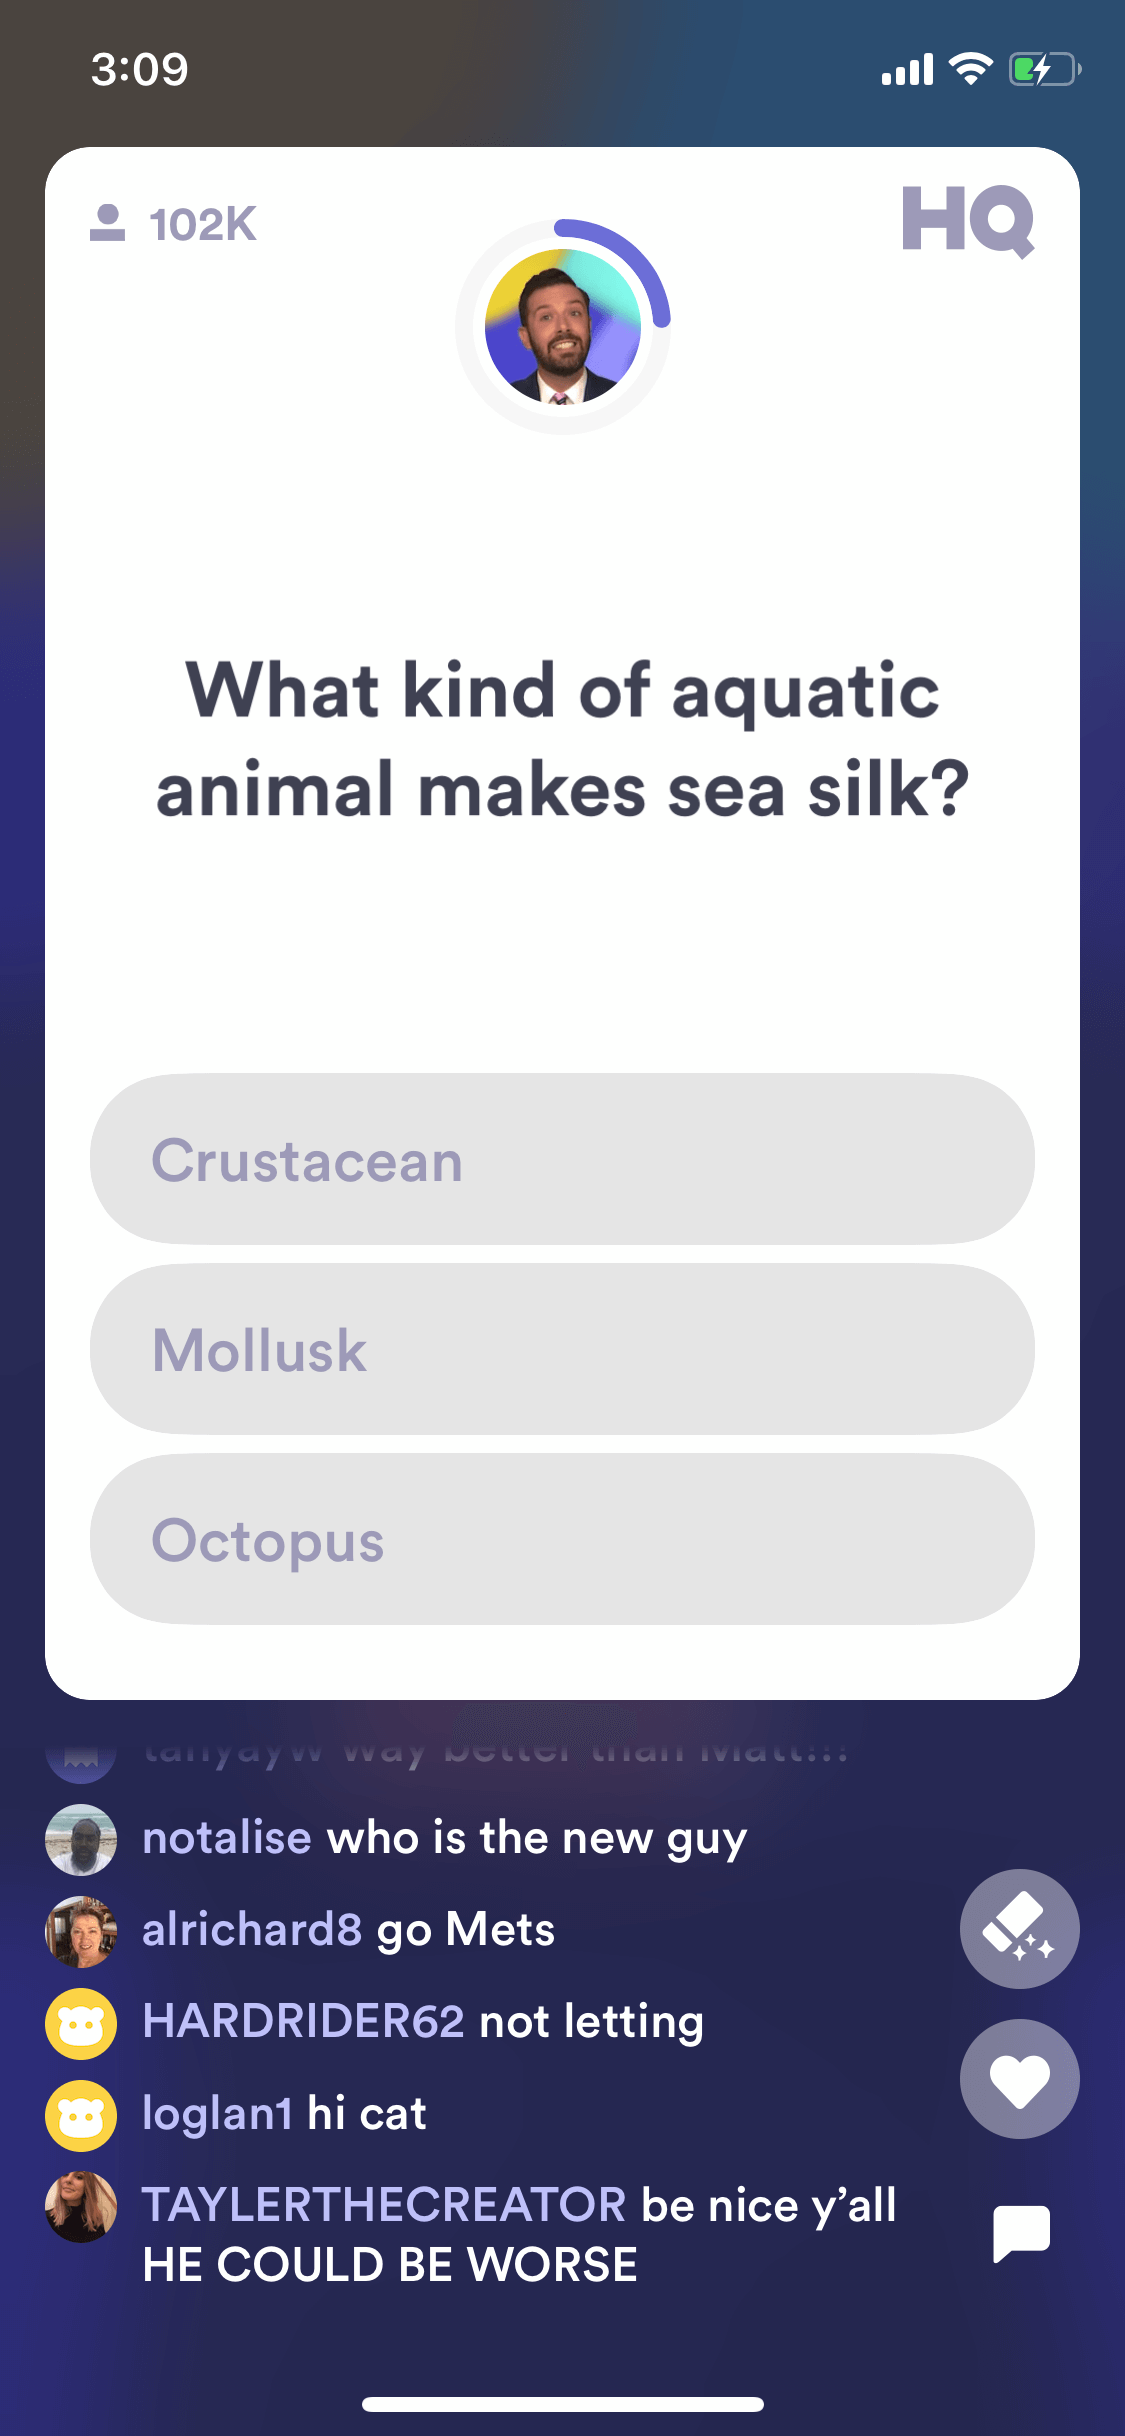Buttons: (85, 1061, 1043, 1255), (82, 1261, 1041, 1451), (79, 1463, 1033, 1637)
FAB (Floating Action Button): (942, 2010, 1094, 2141), (943, 1866, 1091, 1993), (949, 2161, 1097, 2281)
